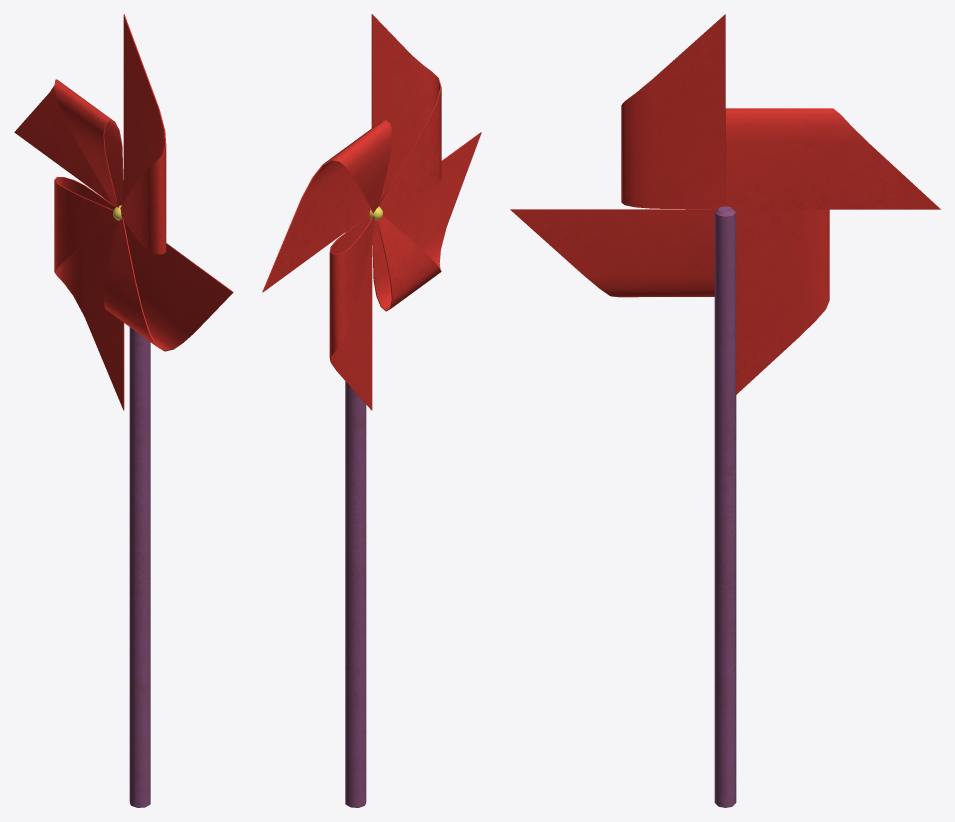
File: Pinwheel_04.fbx
3 views of the same model, side by side, from view 1: azimuth 30°, elevation 25°; view 2: azimuth 150°, elevation 25°; view 3: azimuth 270°, elevation 25° (orthographic).
Parts seen in each view (by area): view 1: Pinwheel_Blades.004, Pinwheel_Handle; view 2: Pinwheel_Blades.004, Pinwheel_Handle; view 3: Pinwheel_Blades.004, Pinwheel_Handle.
Boxes of the visible parts, left/top/right/bottom form: Pinwheel_Blades.004: left=14, top=14, right=233, bottom=410; Pinwheel_Handle: left=129, top=327, right=150, bottom=807; Pinwheel_Blades.004: left=262, top=14, right=481, bottom=410; Pinwheel_Handle: left=345, top=229, right=366, bottom=807; Pinwheel_Blades.004: left=510, top=14, right=940, bottom=394; Pinwheel_Handle: left=714, top=206, right=736, bottom=807.
Size of the model in its own units: 0.2442 by 2 by 4.01.
